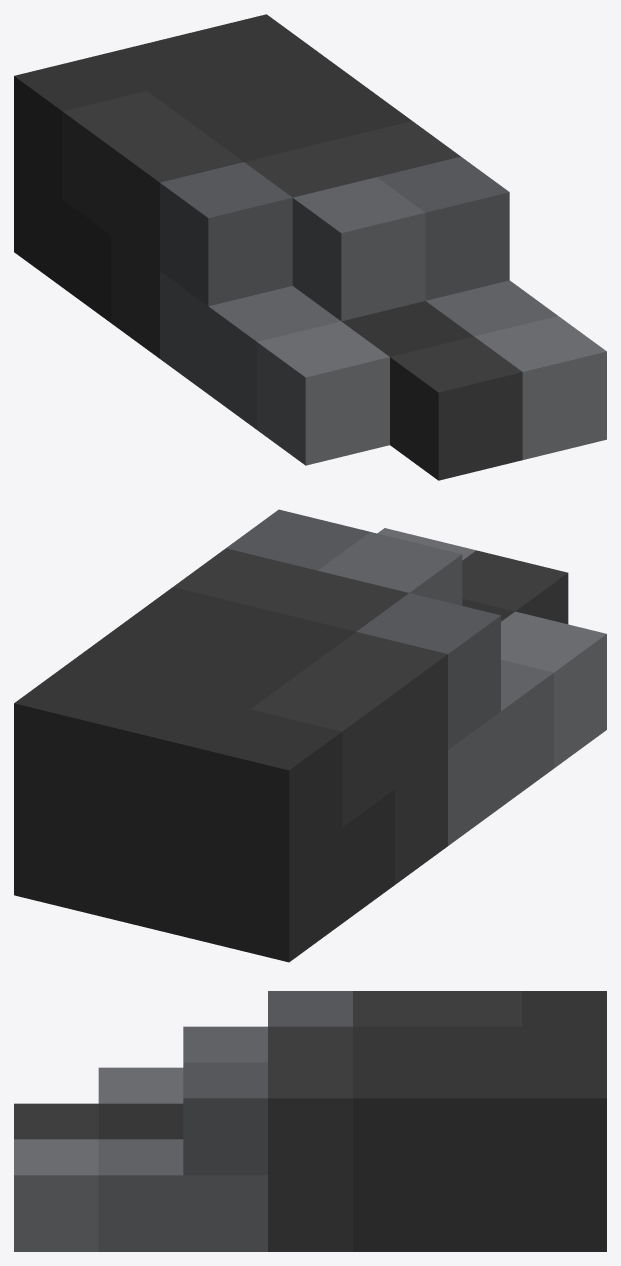
Rendered from golemLegRight.obj.
The picture shows the model from 3 angles, top to bottom: view 1: azimuth 30°, elevation 25°; view 2: azimuth 150°, elevation 25°; view 3: azimuth 270°, elevation 25°; orthographic projection. The views are drawn at different scales.
Parts seen in each view (by area): view 1: golemLegRight; view 2: golemLegRight; view 3: golemLegRight.
Part boxes in pixels (x1,y1,x2,y2): golemLegRight: (14,14,606,480); golemLegRight: (14,509,606,962); golemLegRight: (14,991,606,1251).
Bounding box in the file's own units: 3 × 2 × 7.
1 material, 1 textured.
